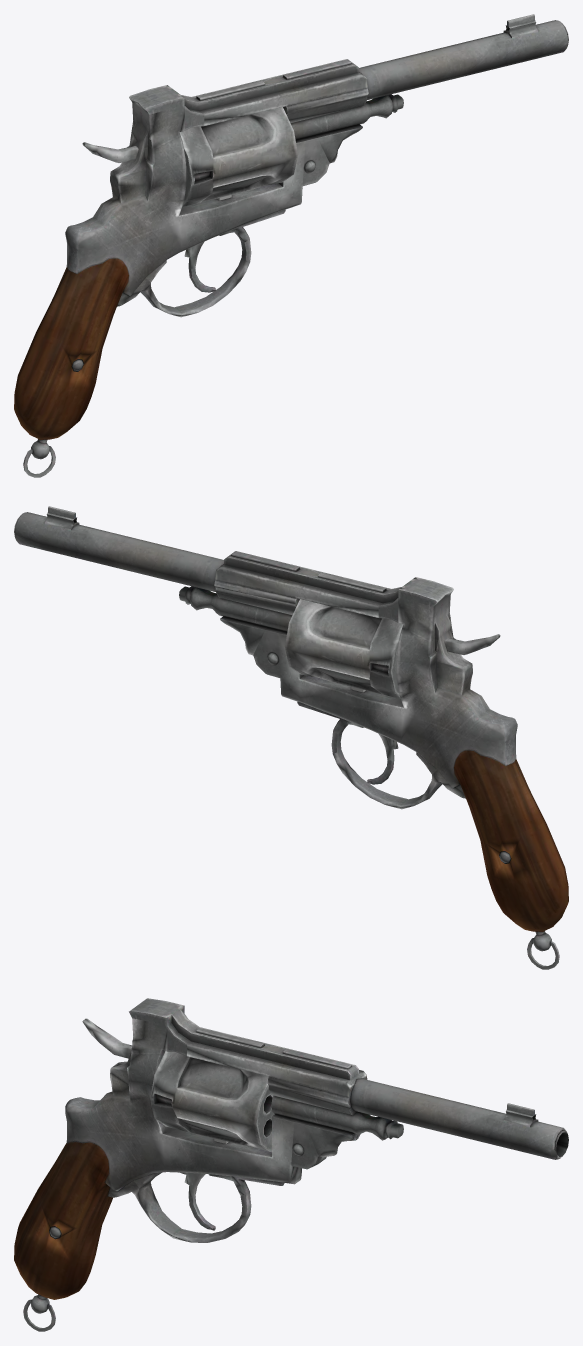
File: old_revolver.gltf
3 views of the same model, one above another, from view 1: azimuth 30°, elevation 25°; view 2: azimuth 150°, elevation 25°; view 3: azimuth 330°, elevation 25° (orthographic).
Parts seen in each view (by area): view 1: old_revolver_body, old_revolver_cylinder; view 2: old_revolver_body, old_revolver_cylinder; view 3: old_revolver_body, old_revolver_cylinder.
Boxes of the visible parts, bbox=[...] form: old_revolver_body: bbox=[14, 14, 568, 477]; old_revolver_cylinder: bbox=[179, 107, 297, 206]; old_revolver_body: bbox=[14, 506, 568, 969]; old_revolver_cylinder: bbox=[285, 599, 403, 698]; old_revolver_body: bbox=[14, 998, 568, 1331]; old_revolver_cylinder: bbox=[150, 1051, 274, 1152].
Size of the model in its own units: 0.26 by 0.1602 by 0.0345.
1 material, 1 textured.
